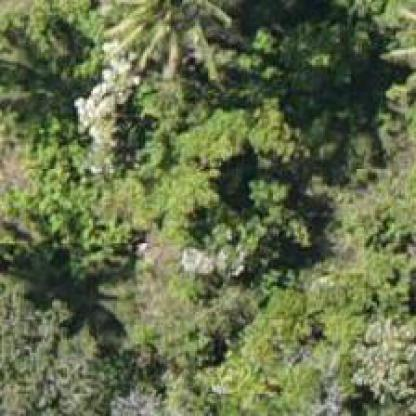coconut tree: (106, 0, 234, 81)
